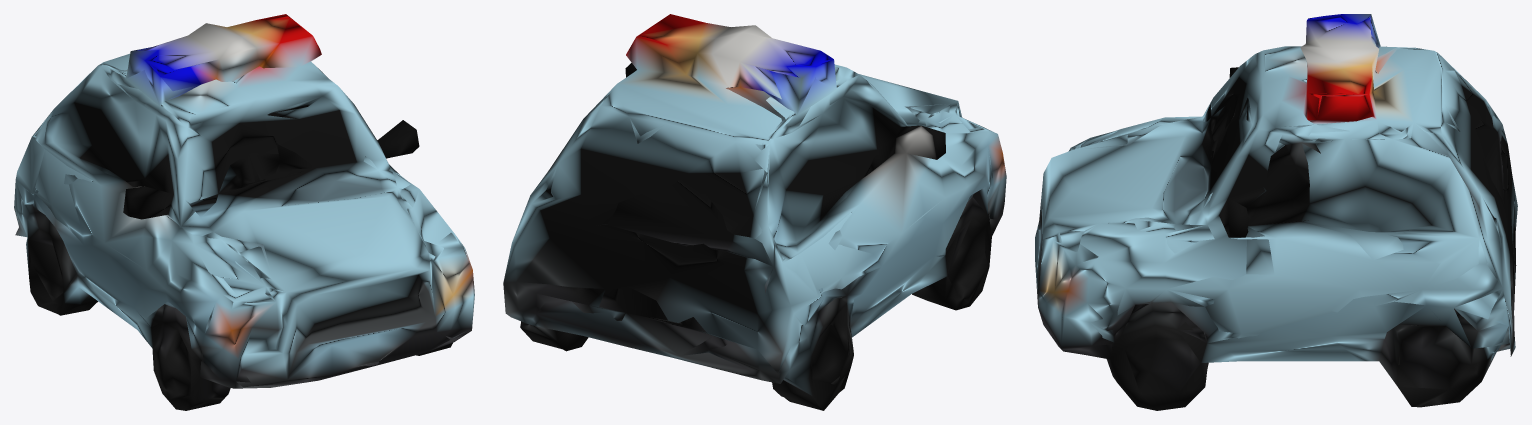
Rendered from gen3d-police-car-lod0.glb.
The picture shows the model from 3 angles, left to right: view 1: azimuth 30°, elevation 25°; view 2: azimuth 150°, elevation 25°; view 3: azimuth 270°, elevation 25°; orthographic projection. The views are drawn at different scales.
Visible parts, largest first — view 1: part_0; view 2: part_0; view 3: part_0.
Boxes of the visible parts, x1=… form: part_0: x1=14, y1=14, x2=474, y2=410; part_0: x1=503, y1=14, x2=1006, y2=410; part_0: x1=1035, y1=14, x2=1517, y2=410.
Bounding box in the file's own units: 1.09 × 0.9989 × 1.47.
